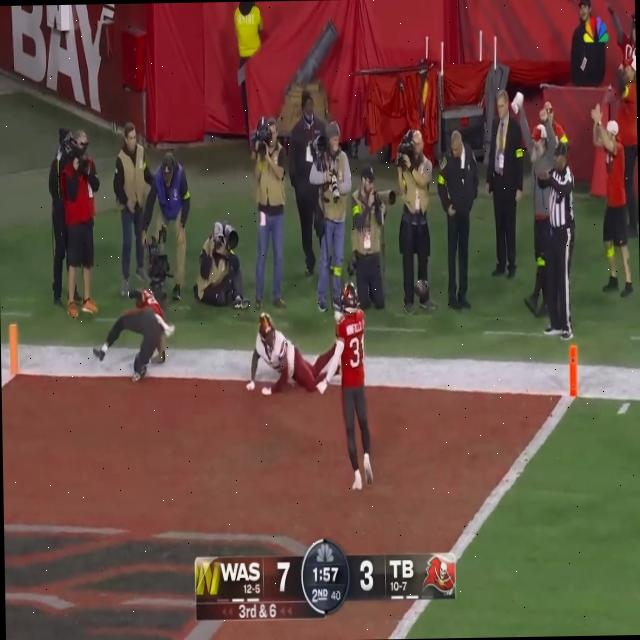Player: (91, 272, 178, 384), (331, 282, 372, 500), (247, 312, 345, 400)
Referee: (541, 138, 580, 351)
